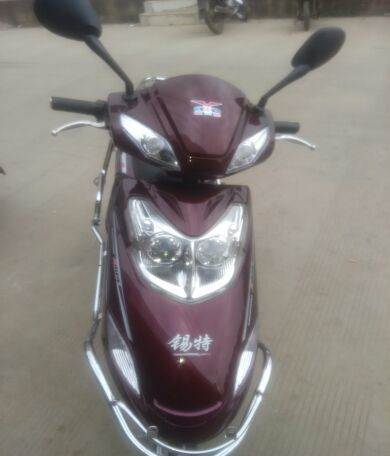电动车: (29, 1, 347, 454)
